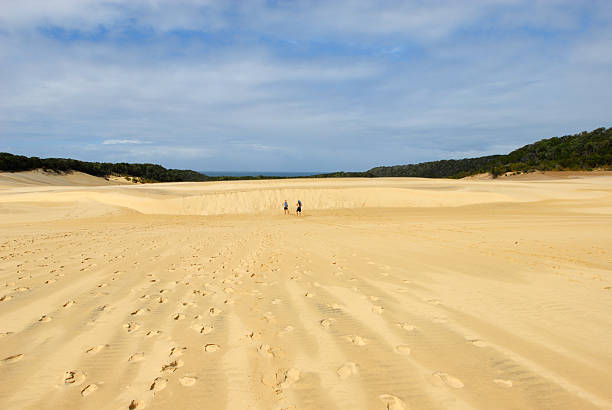human_footprint: (431, 371, 463, 388), (277, 368, 300, 388), (379, 394, 405, 409), (257, 343, 284, 357), (336, 362, 358, 379), (63, 370, 85, 385), (161, 358, 183, 373), (150, 377, 167, 392), (191, 323, 213, 334), (344, 335, 366, 345), (86, 344, 108, 354), (243, 330, 262, 341), (257, 344, 273, 357), (81, 384, 97, 396), (2, 353, 23, 362), (178, 376, 196, 386), (128, 399, 145, 409), (123, 322, 140, 332), (169, 347, 186, 357), (277, 325, 294, 335), (397, 322, 415, 331), (319, 318, 335, 328), (467, 338, 487, 346), (394, 344, 410, 354), (203, 343, 220, 352), (127, 352, 144, 361), (493, 379, 512, 387), (262, 312, 275, 322), (130, 308, 148, 315), (208, 307, 221, 316), (145, 330, 161, 337), (62, 300, 76, 308), (38, 314, 51, 322), (371, 305, 383, 313), (172, 313, 185, 320), (0, 294, 12, 301), (157, 296, 167, 303)
